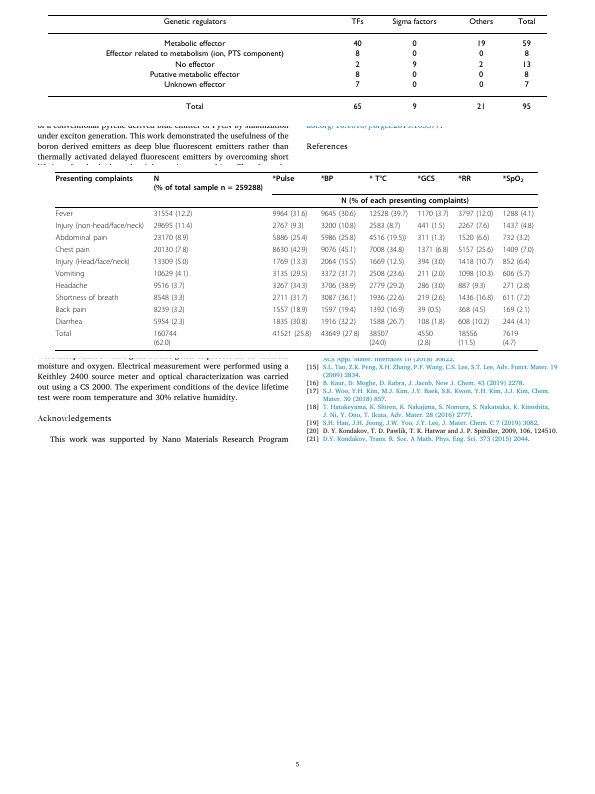borderless: (54, 170, 538, 350), (46, 13, 548, 120)
cell: (153, 174, 264, 192), (104, 50, 284, 60), (340, 196, 470, 206), (148, 70, 240, 80), (55, 221, 145, 231), (55, 257, 131, 267), (55, 174, 134, 183), (162, 17, 227, 27), (55, 293, 119, 303), (163, 40, 226, 49), (163, 81, 226, 90), (55, 233, 108, 243), (391, 17, 437, 27), (153, 329, 177, 347), (174, 60, 215, 70), (368, 209, 409, 219), (153, 209, 193, 219), (153, 221, 193, 231), (368, 233, 407, 243), (368, 329, 389, 347), (457, 329, 478, 347), (320, 209, 357, 219), (457, 209, 494, 219), (320, 221, 357, 231), (320, 233, 357, 243), (320, 245, 357, 255), (368, 245, 405, 255), (457, 245, 494, 255), (320, 257, 357, 267), (368, 257, 405, 267), (457, 257, 494, 267), (320, 269, 357, 279), (368, 269, 405, 279), (457, 269, 494, 279), (320, 281, 357, 291), (368, 281, 405, 291), (320, 293, 357, 303), (368, 293, 405, 303), (457, 293, 494, 303), (272, 209, 308, 219), (153, 233, 189, 243), (272, 233, 308, 243), (55, 245, 91, 255), (153, 245, 189, 255), (272, 245, 308, 255), (153, 257, 189, 267), (272, 257, 308, 267), (153, 269, 189, 279), (272, 269, 308, 279), (272, 281, 308, 291), (272, 293, 308, 303), (272, 329, 312, 338), (320, 329, 360, 338), (320, 305, 357, 314), (368, 305, 405, 314), (320, 317, 357, 326), (368, 317, 405, 326), (416, 209, 449, 219), (502, 209, 535, 219), (272, 221, 305, 231), (368, 221, 401, 231), (457, 221, 490, 231), (502, 221, 535, 231), (457, 233, 490, 243), (416, 245, 449, 255), (502, 245, 535, 255), (55, 281, 88, 291), (153, 281, 186, 291), (153, 293, 186, 303), (272, 305, 308, 314), (272, 317, 308, 326), (416, 329, 434, 347), (502, 329, 519, 347), (416, 221, 446, 231), (416, 233, 446, 243), (416, 257, 446, 267), (55, 269, 85, 279), (416, 269, 446, 279), (416, 281, 446, 291), (416, 293, 446, 303), (153, 305, 186, 314), (153, 317, 186, 326), (457, 317, 490, 326), (502, 233, 531, 243), (502, 257, 531, 267), (502, 269, 531, 279), (457, 281, 486, 291), (502, 281, 531, 291), (502, 293, 531, 303), (55, 305, 87, 314), (416, 317, 446, 326), (457, 305, 486, 314), (502, 305, 531, 314), (502, 317, 531, 326), (468, 17, 494, 27), (55, 317, 83, 326), (416, 305, 442, 314), (502, 174, 525, 184), (272, 174, 295, 183), (516, 17, 536, 27), (185, 103, 204, 113), (55, 209, 74, 219), (368, 174, 388, 183), (416, 174, 436, 183), (55, 329, 72, 338), (350, 17, 364, 27), (457, 174, 472, 183), (320, 174, 334, 183), (521, 60, 531, 70), (352, 103, 362, 113), (476, 103, 486, 113), (521, 103, 531, 113), (352, 40, 362, 49), (476, 40, 486, 49), (521, 40, 531, 49), (354, 50, 360, 60), (411, 50, 417, 60), (478, 50, 484, 60), (523, 50, 529, 60), (354, 60, 360, 70), (411, 60, 417, 70), (478, 60, 484, 70), (354, 70, 360, 80), (411, 70, 417, 80), (478, 70, 484, 80), (523, 70, 529, 80), (411, 103, 417, 113), (411, 40, 417, 49), (354, 81, 360, 90), (411, 81, 417, 90), (478, 81, 484, 90), (523, 81, 529, 90)
